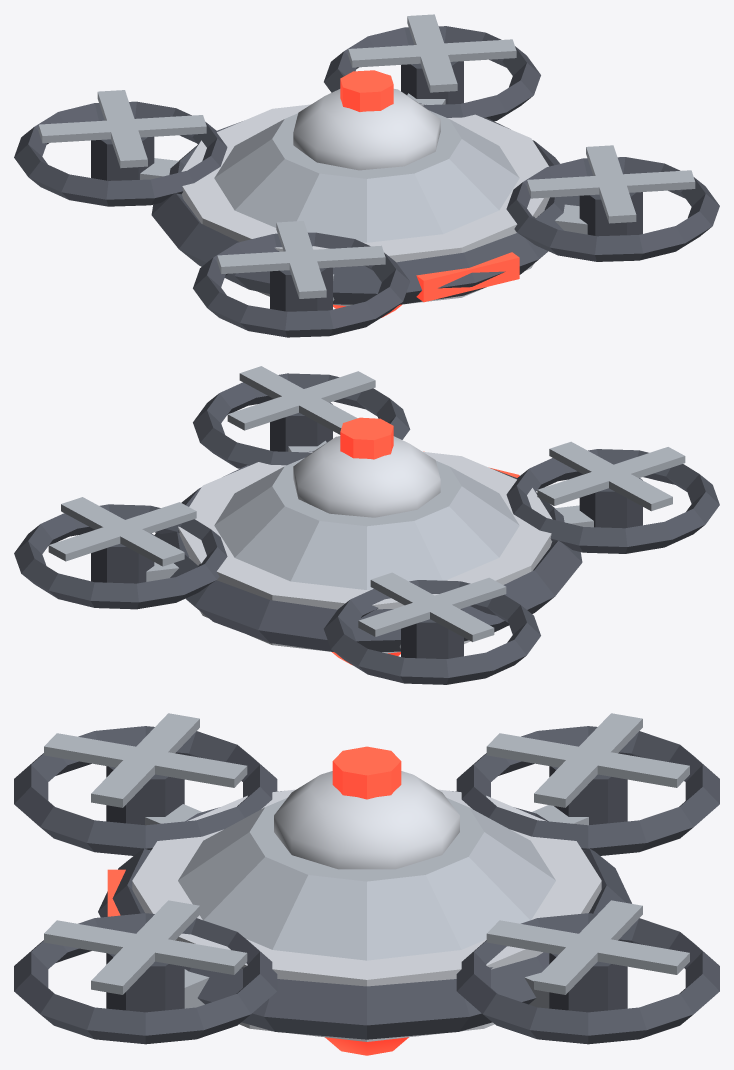
The model's file is hover_drone.glb.
3 renders of one model, top to bottom at view 1: azimuth 30°, elevation 25°; view 2: azimuth 150°, elevation 25°; view 3: azimuth 270°, elevation 25°, orthographic. The views are drawn at different scales.
Parts seen in each view (by area): view 1: Cone, Cylinder, Torus, Sphere, Torus.003, Torus.004, Torus.002, Torus.001, Cube.002, Cube.004, Cube.008, Cube.010 (+11 smaller); view 2: Cone, Cylinder, Torus, Sphere, Torus.002, Torus.001, Torus.003, Torus.004, Cube.001, Cube.011, Cube.004, Cube.008 (+9 smaller); view 3: Cone, Torus, Cylinder, Sphere, Torus.004, Torus.001, Torus.003, Torus.002, Cube.001, Cube.007, Cube.011, Cube.005 (+14 smaller).
Boxes of the visible parts, x1,y1,x2,y2 form: Cone: (214,110,519,242); Cylinder: (181,104,549,306); Torus: (151,103,579,304); Sphere: (293,89,440,170); Torus.003: (193,232,410,337); Torus.004: (506,157,719,261); Torus.002: (14,101,227,206); Torus.001: (324,26,540,121); Cube.002: (348,39,516,67); Cube.004: (38,115,206,143); Cube.008: (217,245,385,273); Cube.010: (527,170,695,198); Cone: (214,458,519,589); Cylinder: (178,451,552,653); Torus: (154,450,582,652); Sphere: (293,436,440,517); Torus.002: (324,580,540,684); Torus.001: (14,504,227,609); Torus.003: (506,449,719,553); Torus.004: (193,373,410,468); Cube.001: (48,502,196,561); Cube.011: (227,371,375,430); Cube.004: (370,572,494,641); Cube.008: (549,441,672,511); Cone: (178,798,555,960); Torus: (98,791,631,1039); Cylinder: (132,789,601,1041); Sphere: (274,771,459,869); Torus.004: (14,913,277,1044); Torus.001: (456,913,719,1044); Torus.003: (14,726,277,855); Torus.002: (456,726,719,855); Cube.001: (486,920,689,974); Cube.007: (44,733,247,787); Cube.011: (44,920,247,974); Cube.005: (486,733,689,787).
Size of the model in its own units: 0.7285 by 0.325 by 0.7216.
